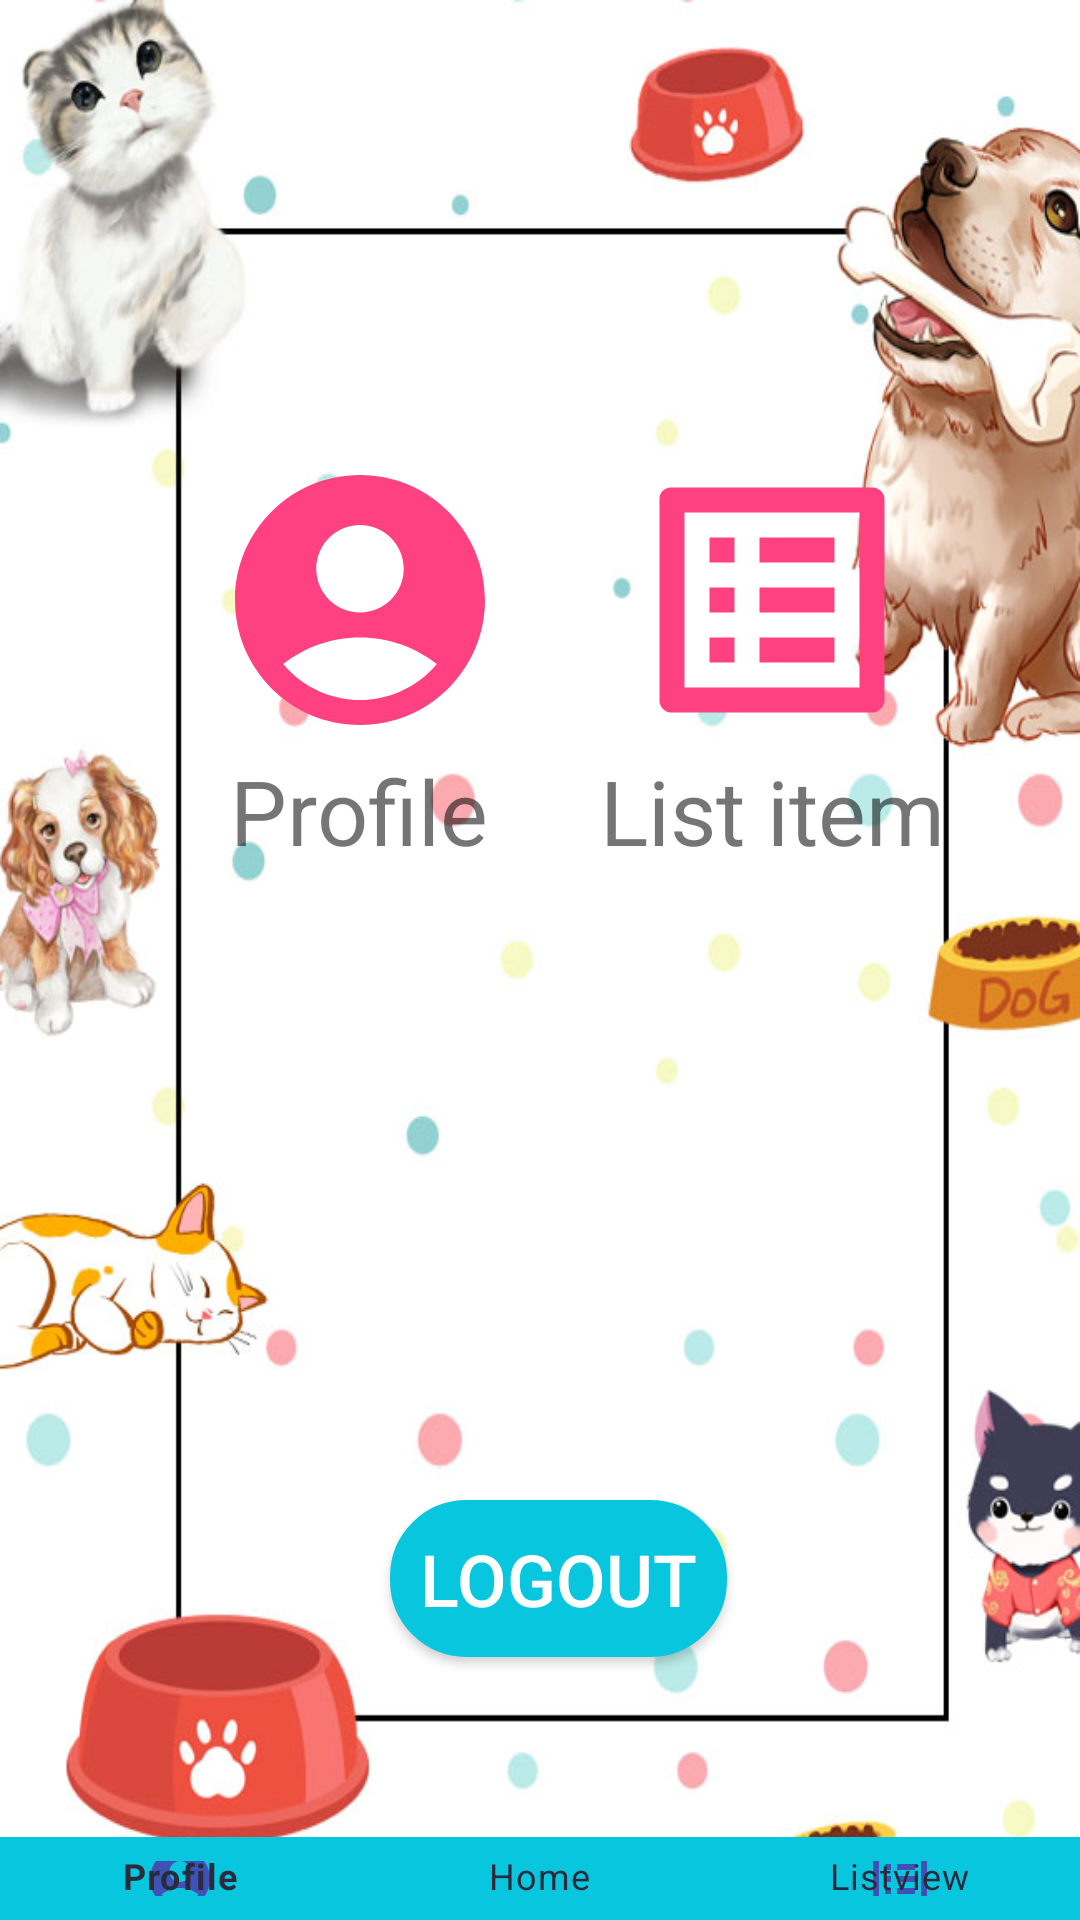

Where to tap for icons on this 1080x1920 app screen, as point (x, y):
account circle: point (353, 600)
